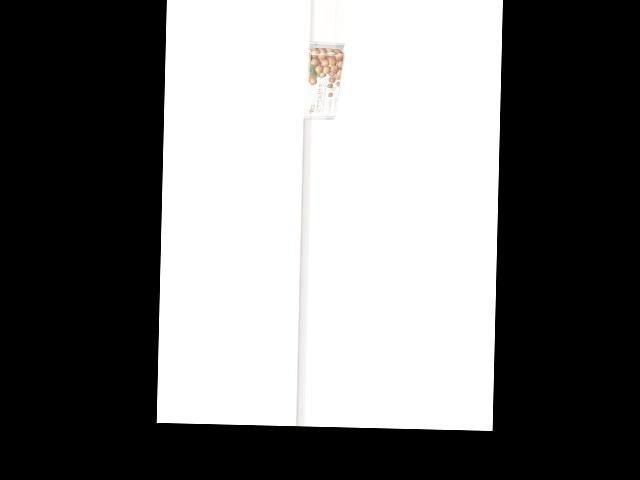chocolate: (306, 42, 345, 120)
